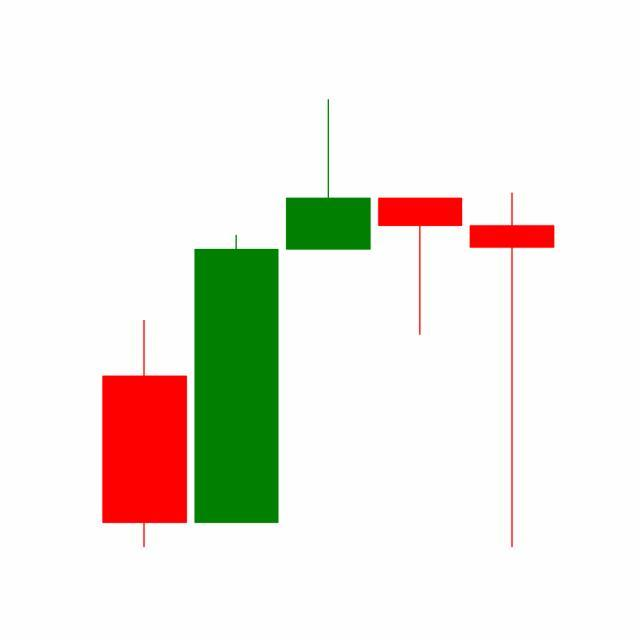Hammer: (374, 197, 468, 338)
